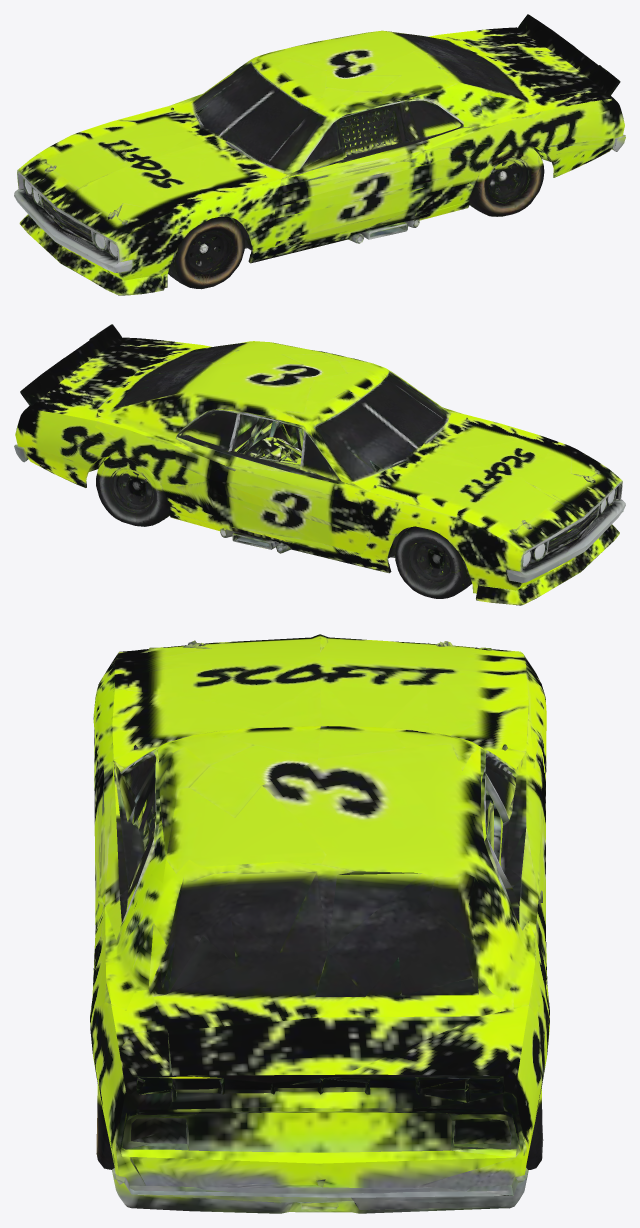
Rendered from car-3-muscle.glb.
3 renders of one model, top to bottom at view 1: azimuth 30°, elevation 25°; view 2: azimuth 150°, elevation 25°; view 3: azimuth 270°, elevation 25°, orthographic. The views are drawn at different scales.
Parts seen in each view (by area): view 1: Mesh_0; view 2: Mesh_0; view 3: Mesh_0.
Part boxes in pixels (box(x1,y1,x2,y2)): Mesh_0: box(14, 14, 625, 295); Mesh_0: box(14, 324, 625, 605); Mesh_0: box(90, 634, 549, 1213).
Bounding box in the file's own units: 1.9 × 0.4775 × 0.7241.
Materials: 1 (1 with a texture image).
